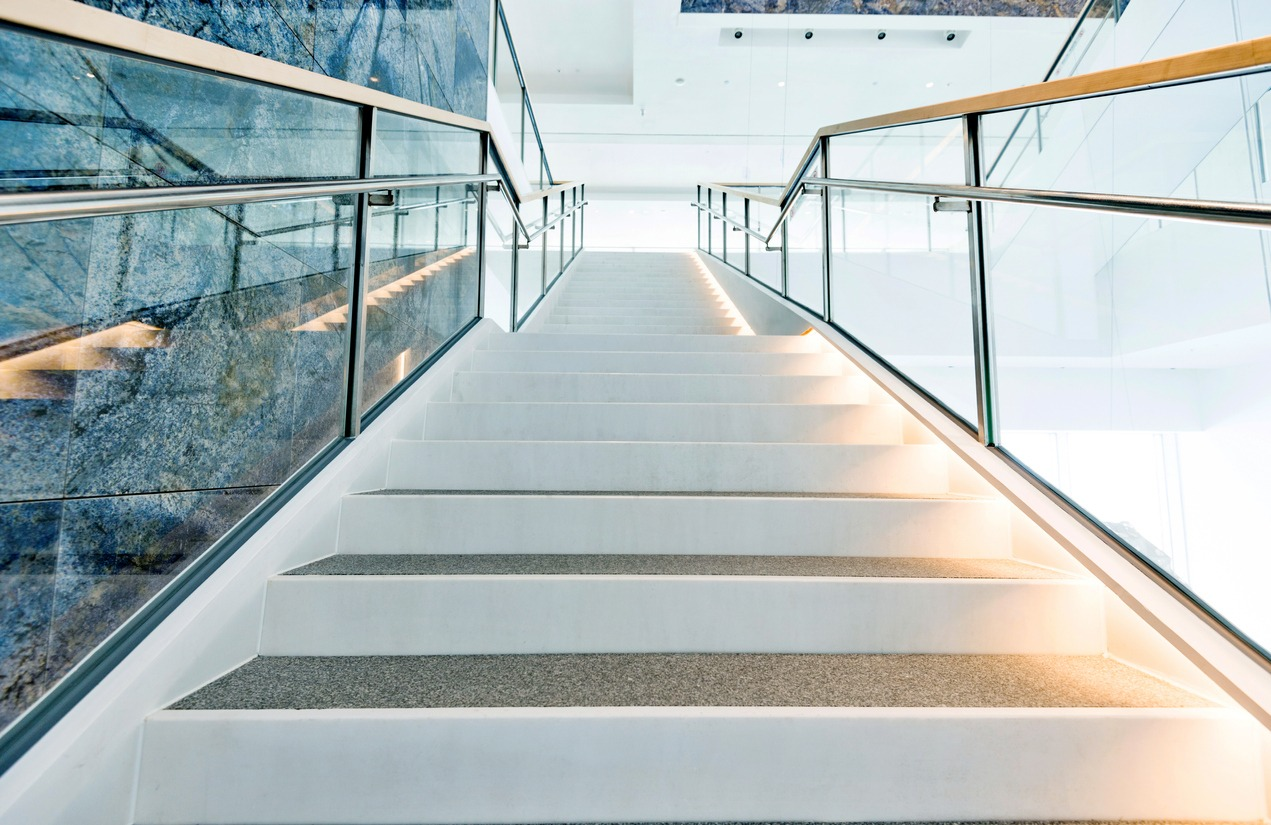upstairs: (388, 390, 936, 825)
